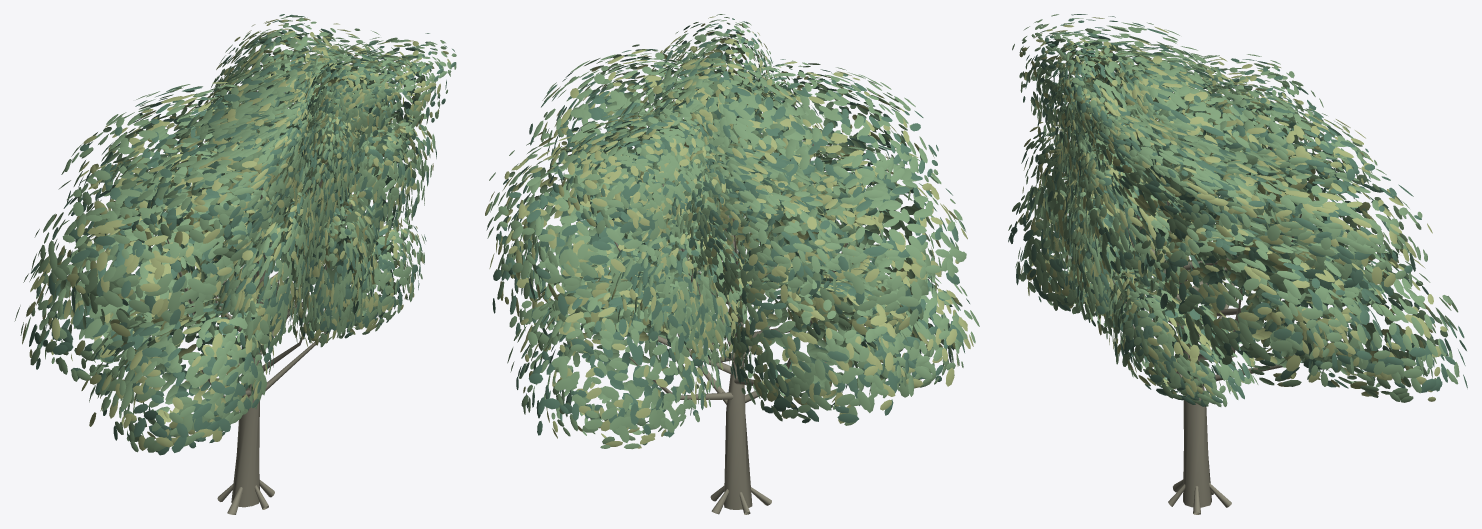
The model's file is grove_3.glb.
3 views of the same model, side by side, from view 1: azimuth 30°, elevation 25°; view 2: azimuth 150°, elevation 25°; view 3: azimuth 270°, elevation 25° (orthographic). The views are drawn at different scales.
Visible parts, largest first — view 1: study_canopy_0_StudyLeafJade, study_canopy_0_StudyLeafDeep, study_canopy_0_StudyLeafGold, study_canopy_0_StudyBark; view 2: study_canopy_0_StudyLeafJade, study_canopy_0_StudyLeafDeep, study_canopy_0_StudyLeafGold, study_canopy_0_StudyBark; view 3: study_canopy_0_StudyLeafJade, study_canopy_0_StudyLeafDeep, study_canopy_0_StudyLeafGold, study_canopy_0_StudyBark.
Part boxes in pixels (left/top/right/bottom): study_canopy_0_StudyLeafJade: left=14, top=15, right=456, bottom=452; study_canopy_0_StudyLeafDeep: left=29, top=14, right=456, bottom=455; study_canopy_0_StudyLeafGold: left=22, top=18, right=451, bottom=450; study_canopy_0_StudyBark: left=134, top=90, right=356, bottom=514; study_canopy_0_StudyLeafJade: left=485, top=14, right=979, bottom=449; study_canopy_0_StudyLeafDeep: left=486, top=18, right=969, bottom=445; study_canopy_0_StudyLeafGold: left=485, top=16, right=973, bottom=448; study_canopy_0_StudyBark: left=605, top=144, right=870, bottom=514; study_canopy_0_StudyLeafJade: left=1008, top=14, right=1459, bottom=406; study_canopy_0_StudyLeafDeep: left=1008, top=14, right=1467, bottom=406; study_canopy_0_StudyLeafGold: left=1017, top=17, right=1459, bottom=401; study_canopy_0_StudyBark: left=1105, top=97, right=1324, bottom=514.
Size of the model in its own units: 11 by 11.38 by 9.65.
